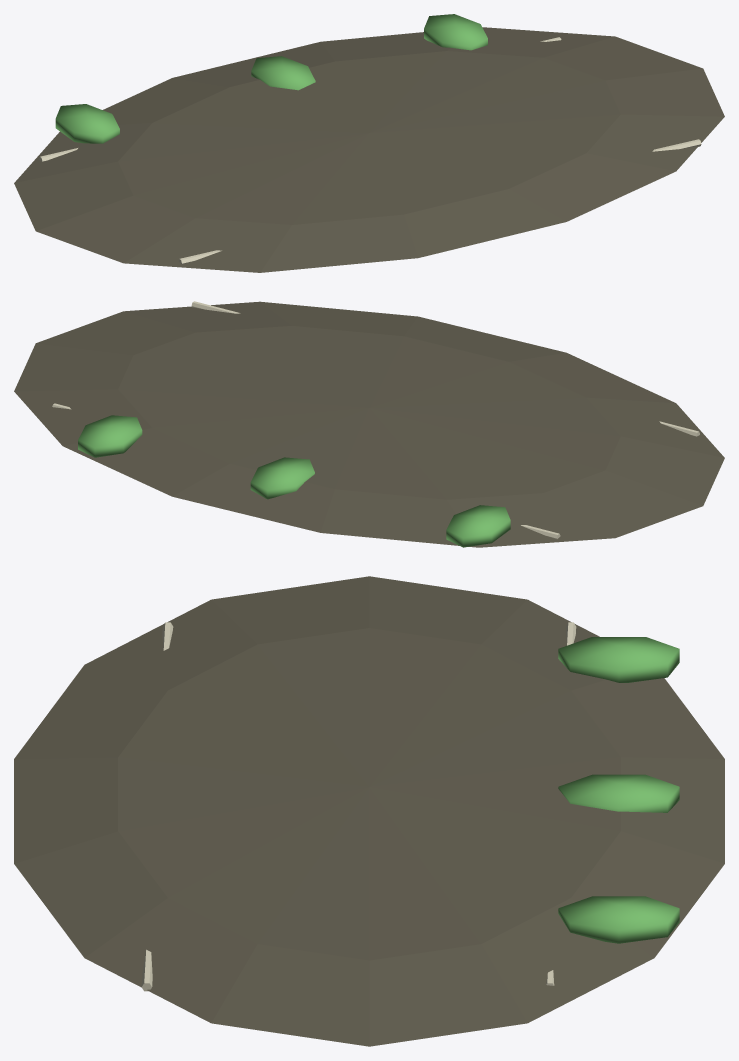
The model's file is floodplain_shelf_a.obj.
3 views of the same model, one above another, from view 1: azimuth 30°, elevation 25°; view 2: azimuth 150°, elevation 25°; view 3: azimuth 270°, elevation 25° (orthographic). The views are drawn at different scales.
Visible parts, largest first — view 1: floodplain_shelf_a; view 2: floodplain_shelf_a; view 3: floodplain_shelf_a.
Boxes of the visible parts, left/top/right/bottom form: floodplain_shelf_a: left=14, top=14, right=724, bottom=272; floodplain_shelf_a: left=14, top=301, right=724, bottom=547; floodplain_shelf_a: left=14, top=576, right=724, bottom=1046.
Size of the model in its own units: 11.6 by 0.6 by 7.41.
